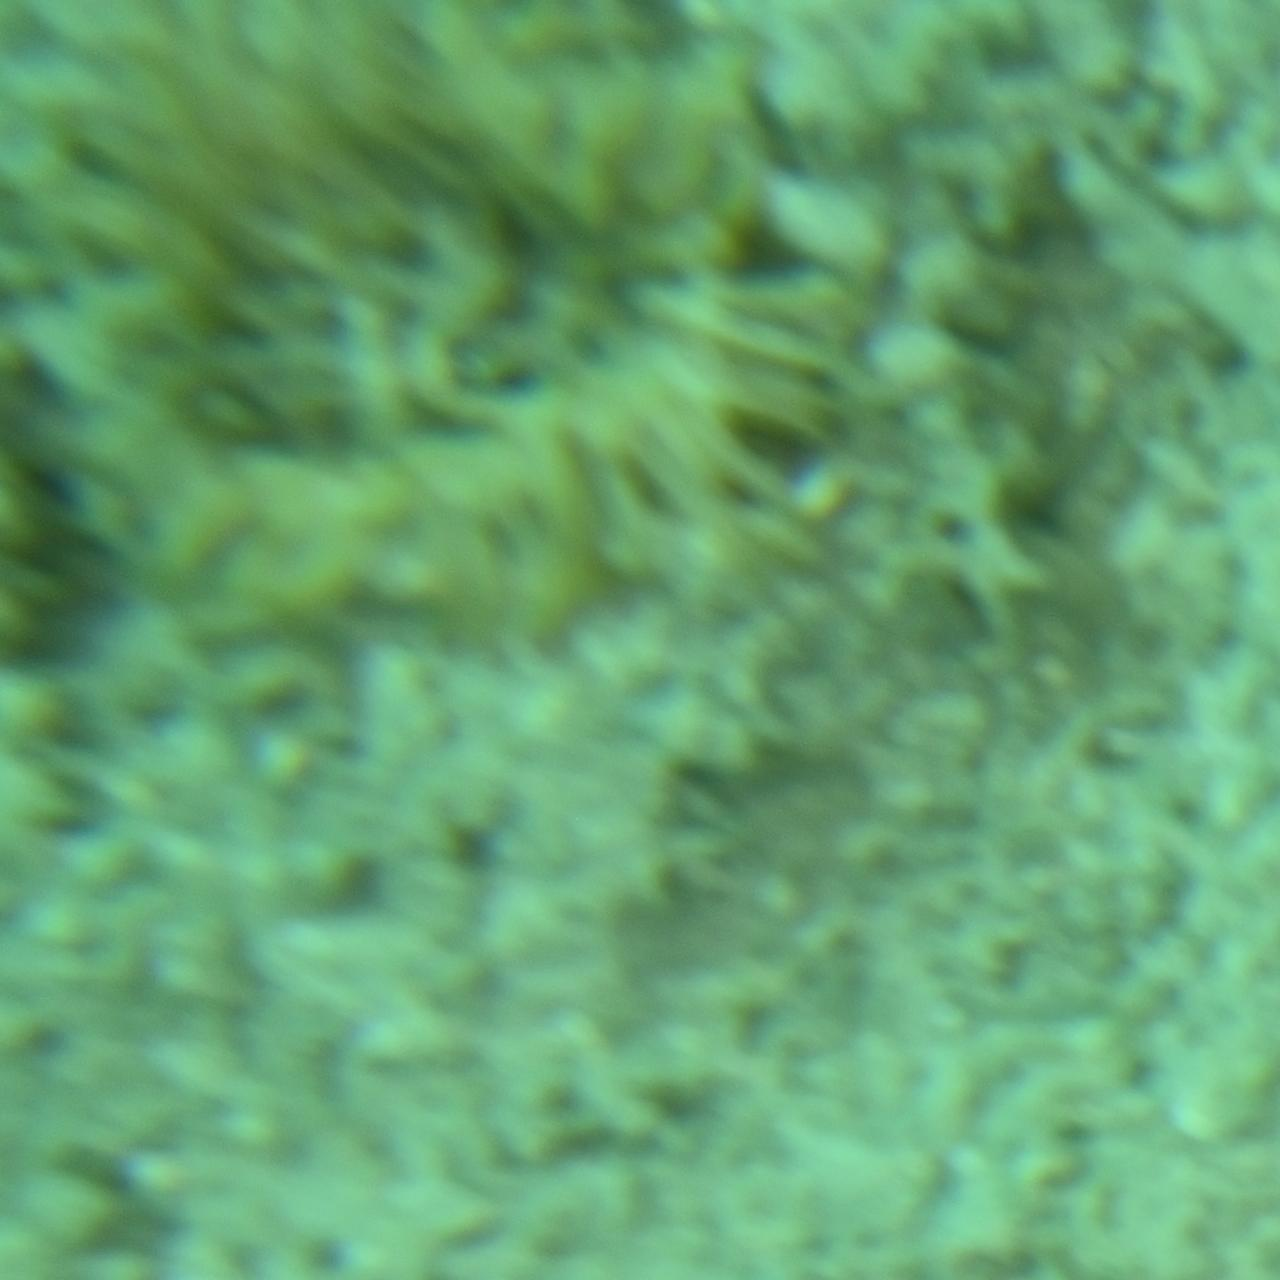Condylactis aurantiaca: (2, 0, 885, 634)
